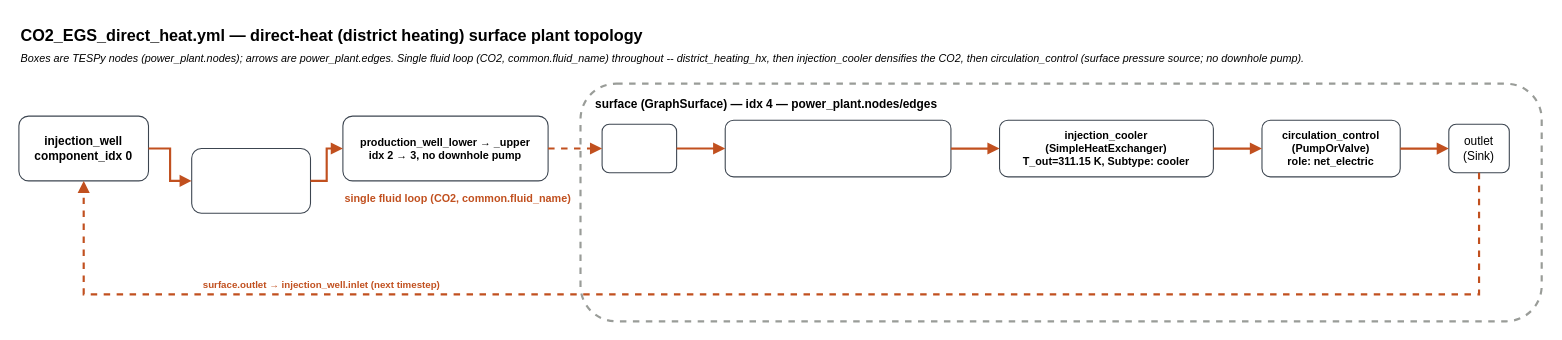
Some shapes in this 1562 by 340 pixel diagram are drawn without their labels. The shapes that lost their labels are listed below. From the top down, each one's centre as x and y in pixels, then its label:
[639,148]: inlet (Source)
[837,148]: district_heating_hx (SimpleHeatExchanger) role: net_thermal, T_out=323.15 K
[250,180]: reservoir idx 1
